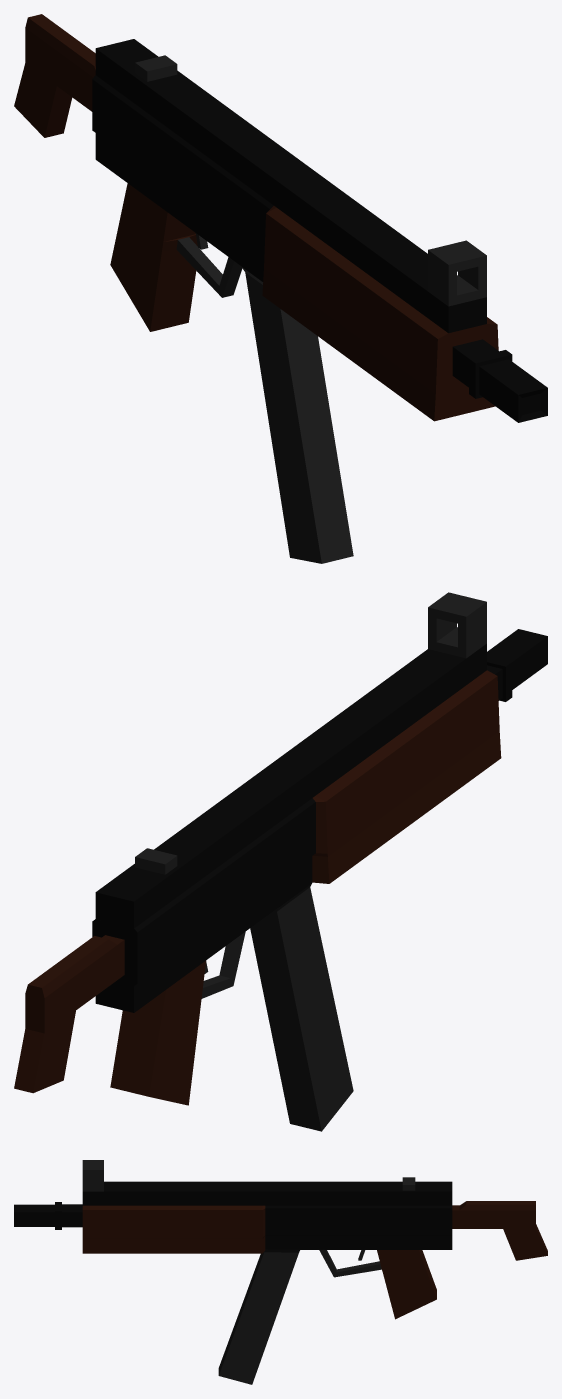
Rendered from submachinegun.fbx.
3 views of the same model, one above another, from view 1: azimuth 30°, elevation 25°; view 2: azimuth 150°, elevation 25°; view 3: azimuth 270°, elevation 25° (orthographic). The views are drawn at different scales.
Visible parts, largest first — view 1: submachine_gun; view 2: submachine_gun; view 3: submachine_gun.
Part boxes in pixels (<box>): submachine_gun: <box>14,14,547,563</box>; submachine_gun: <box>14,592,547,1131</box>; submachine_gun: <box>14,1160,547,1384</box>.
Bounding box in the file's own units: 0.0645 × 0.3792 × 0.8495.
